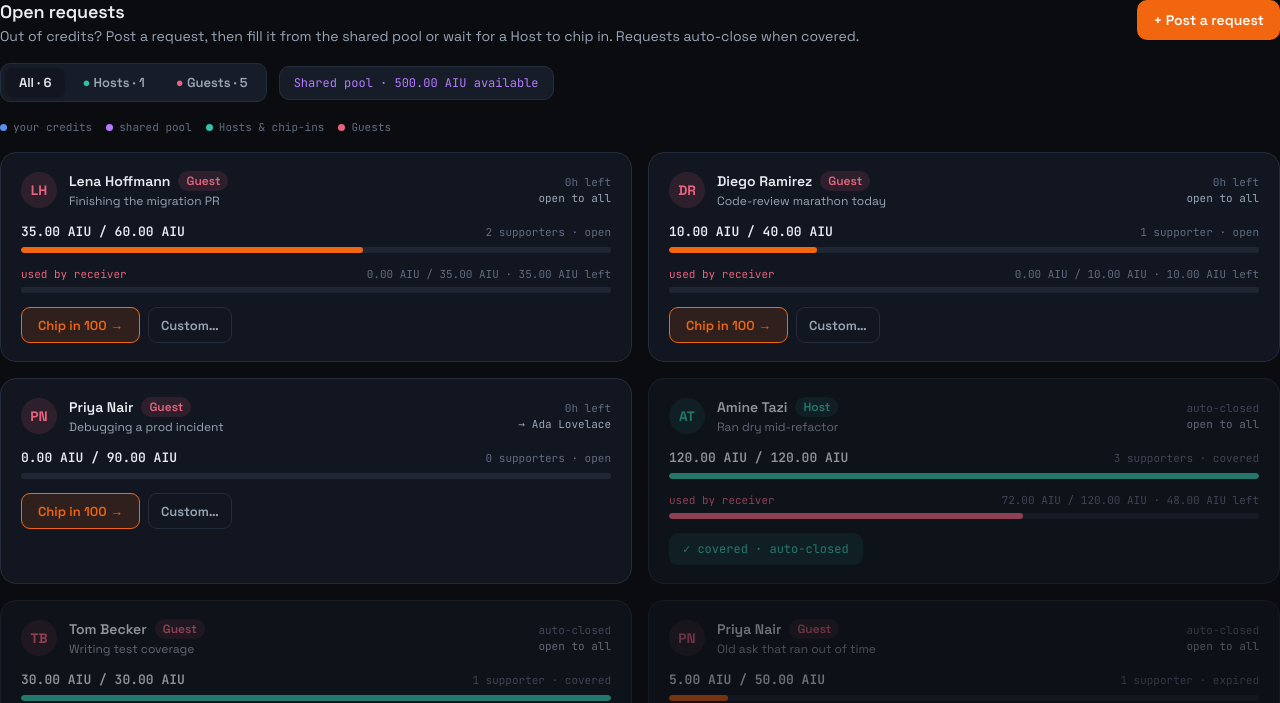
Test: marketplace › posts a new request
This screenshot has width=1280, height=703.
Click the button "+ Post a request" at (1209, 20), box top-left (1137, 0), bottom-right (1279, 40)
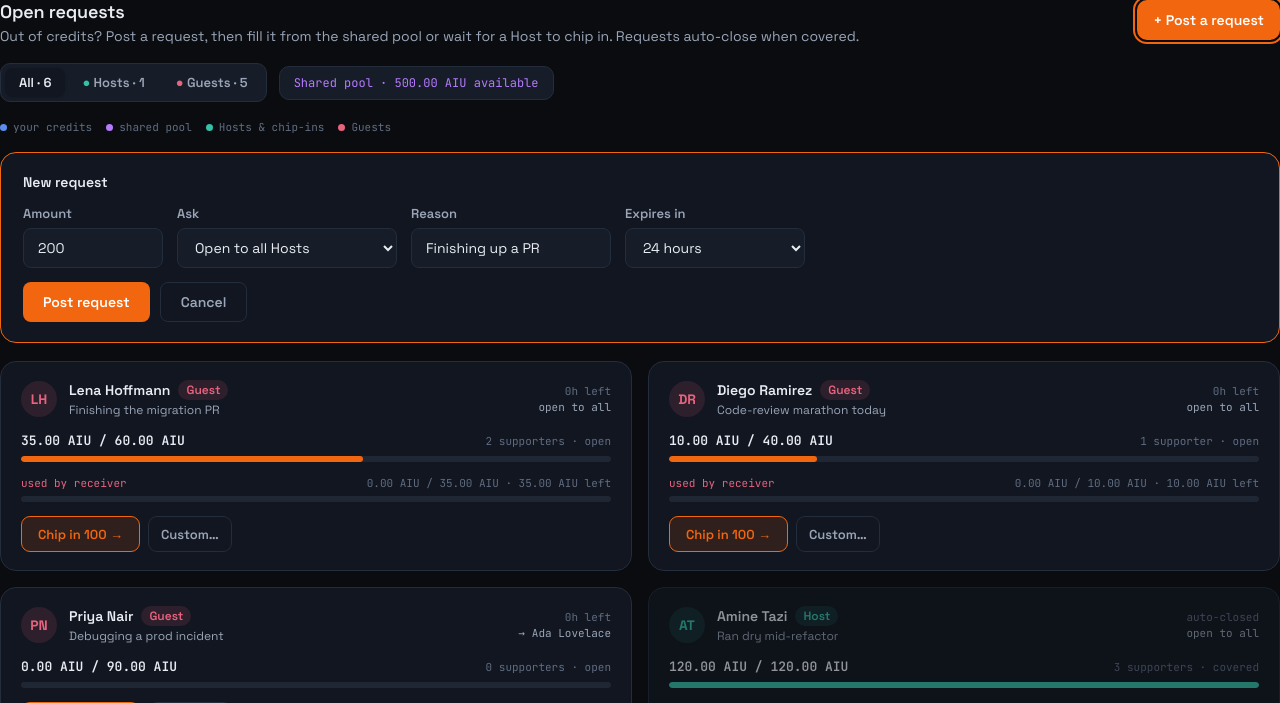
Click the button "Post request" at (86, 302), box top-left (23, 282), bottom-right (150, 322)
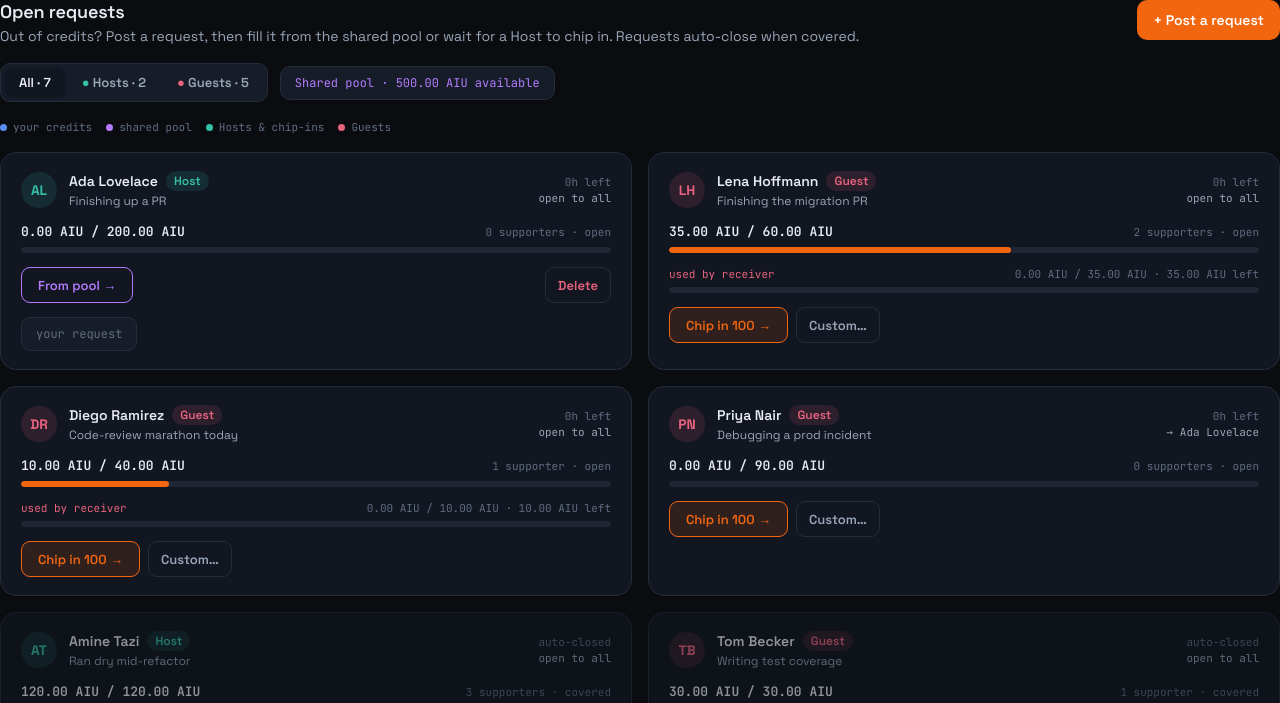
Check: the button "All · 7" is shown, box top-left (5, 68), bottom-right (65, 97)
